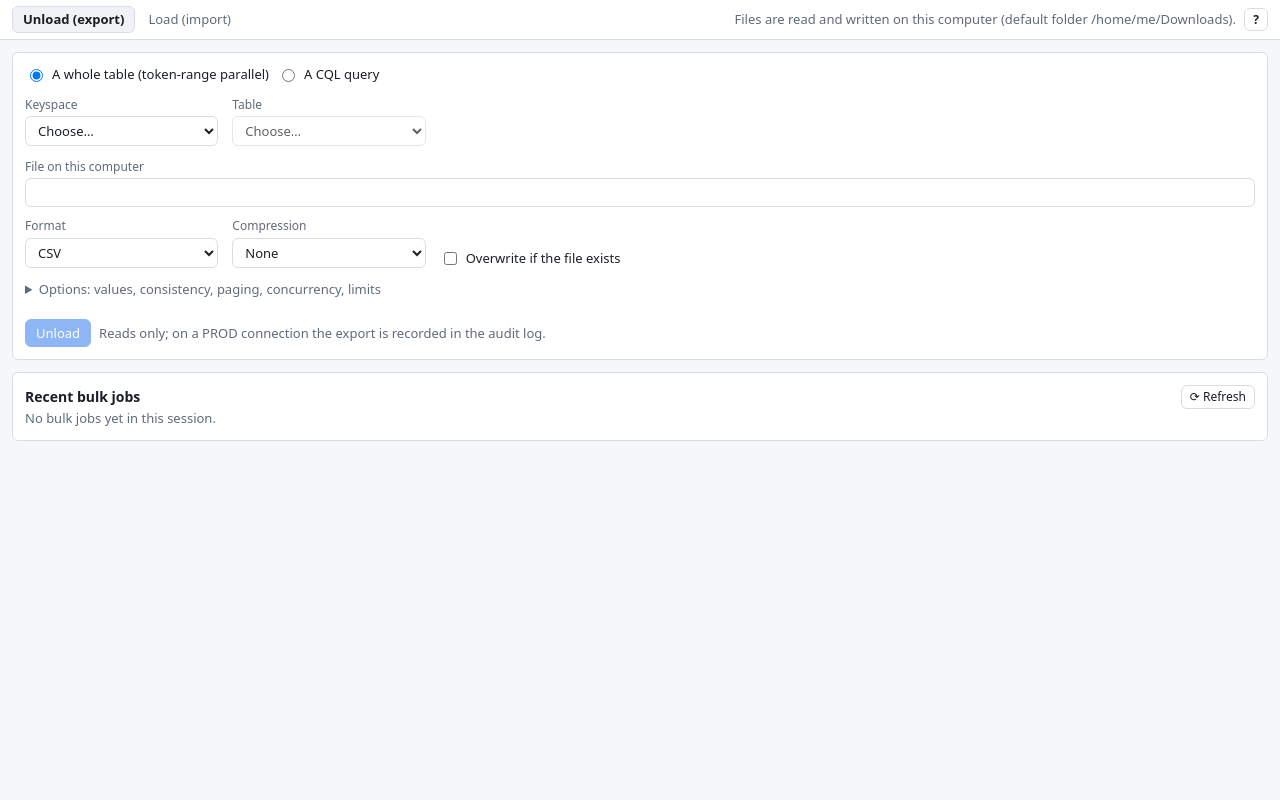
Test case: BulkPanel › unloads a table to the default Downloads path and shows the overwrite refusal
Select "shop" in the dropdown with test id "bulk-unload-keyspace". click: (122, 131)
box: [25,116,218,146]
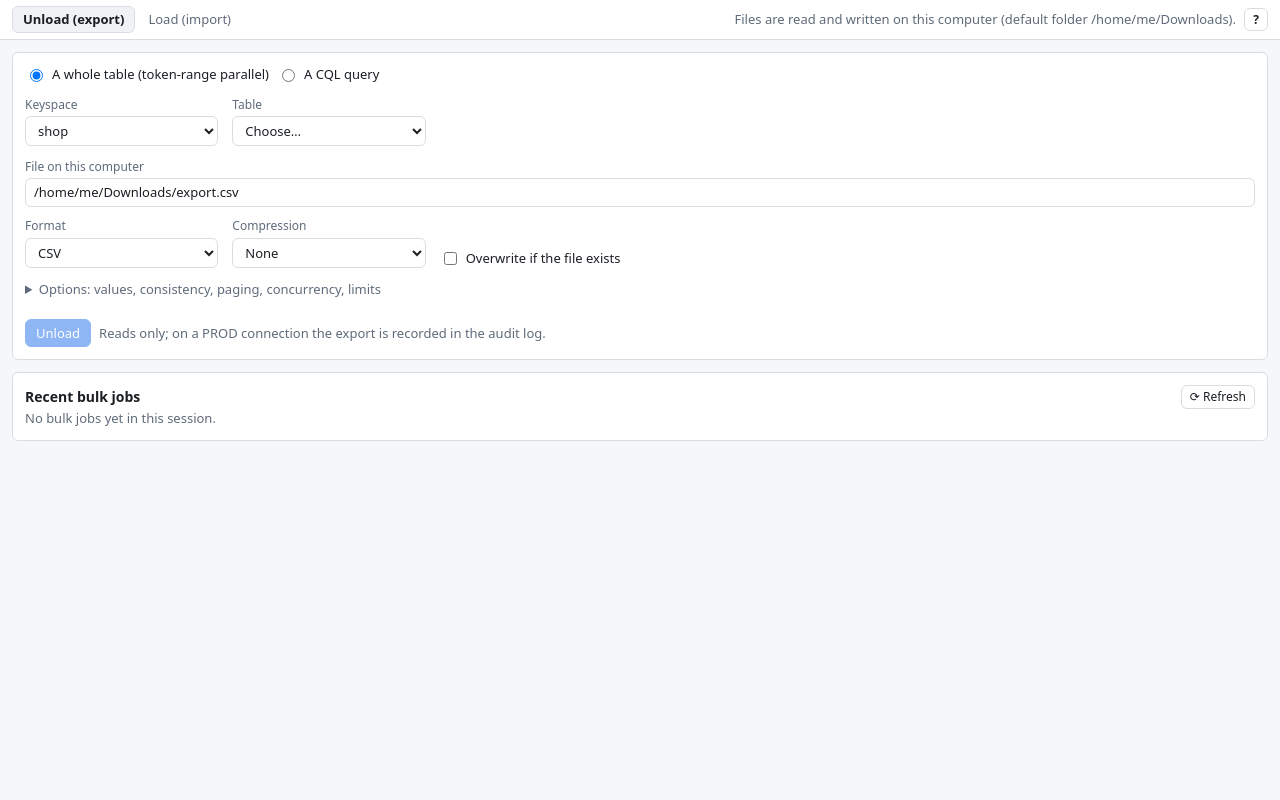
Select "orders" in the dropdown with test id "bulk-unload-table". click: (329, 131)
box: [232,116,426,146]
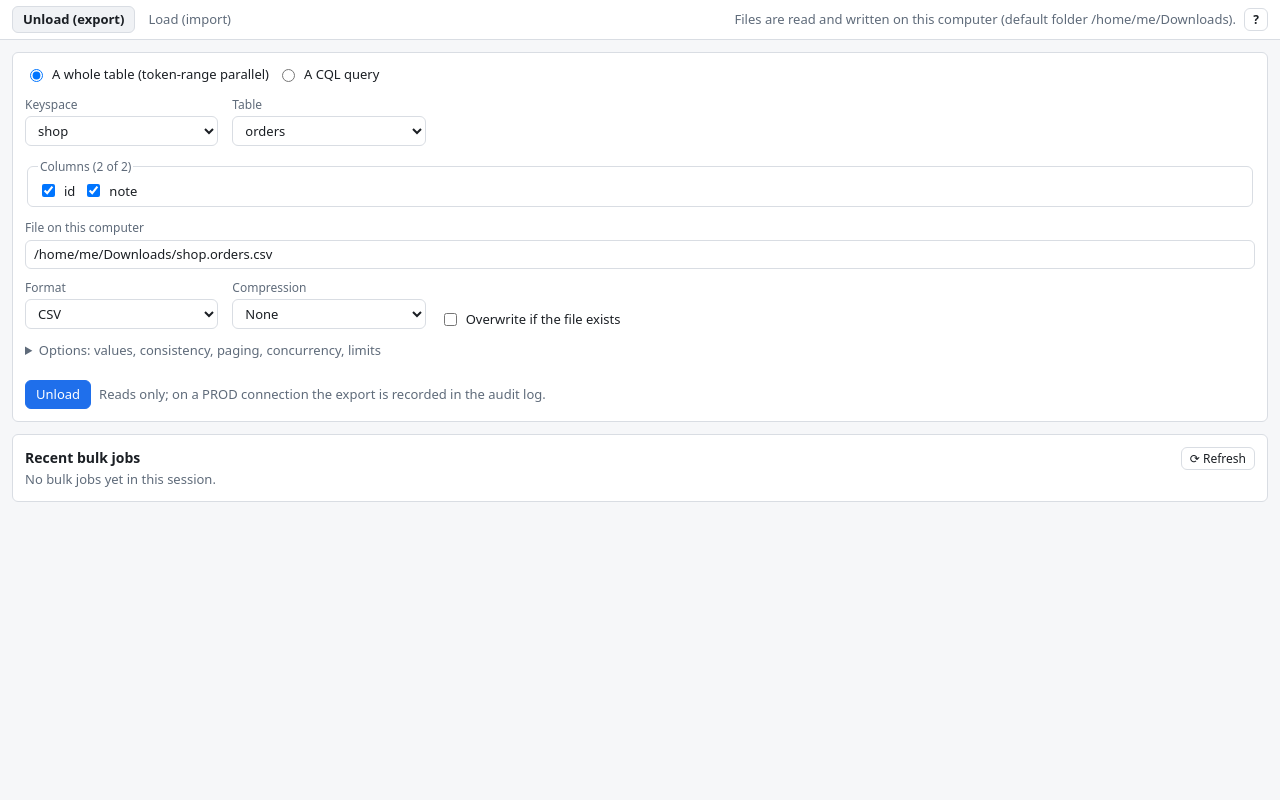
Expected: the field with test id "bulk-unload-path" holds "/home/me/Downloads/shop.orders.csv", [25,240,1255,269]
Expected: the text "Columns (2 of 2)" is shown, [38,158,134,176]
Select "JSON lines" in the dropdown with test id "bulk-unload-format". click: (122, 314)
box: [25,299,218,329]
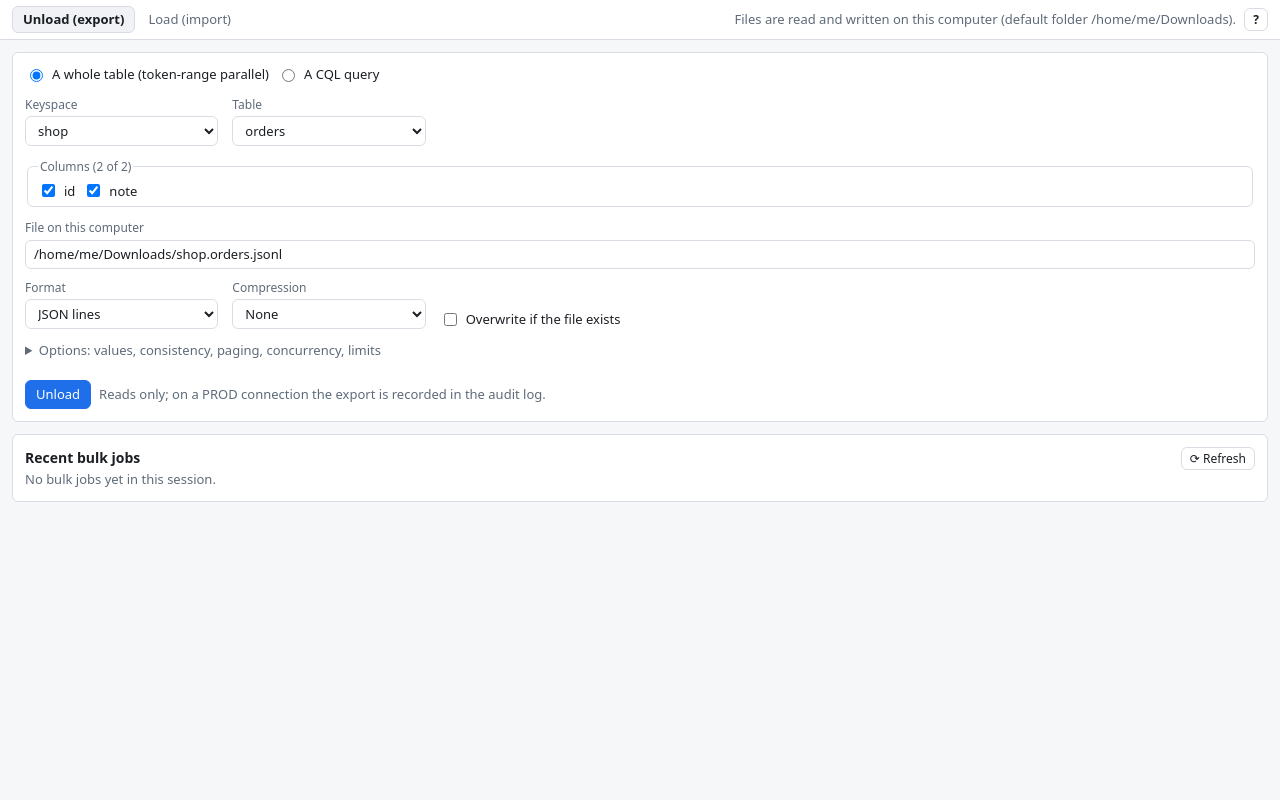
Expected: the field with test id "bulk-unload-path" holds "/home/me/Downloads/shop.orders.jsonl", [25,240,1255,269]
Select "CSV" in the dropdown with test id "bulk-unload-format". click: (122, 314)
box: [25,299,218,329]
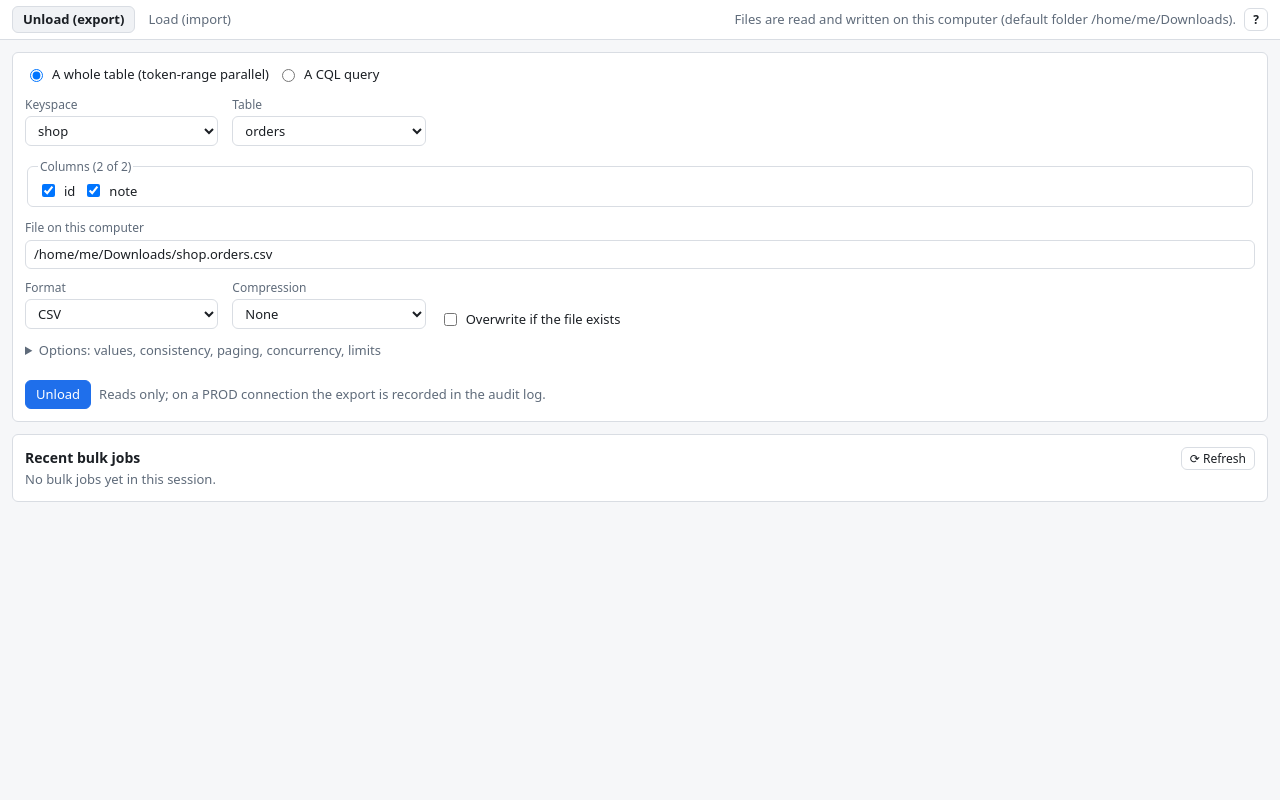
Click the button with test id "bulk-unload-start". click: (58, 394)
box: [25,380,91,409]
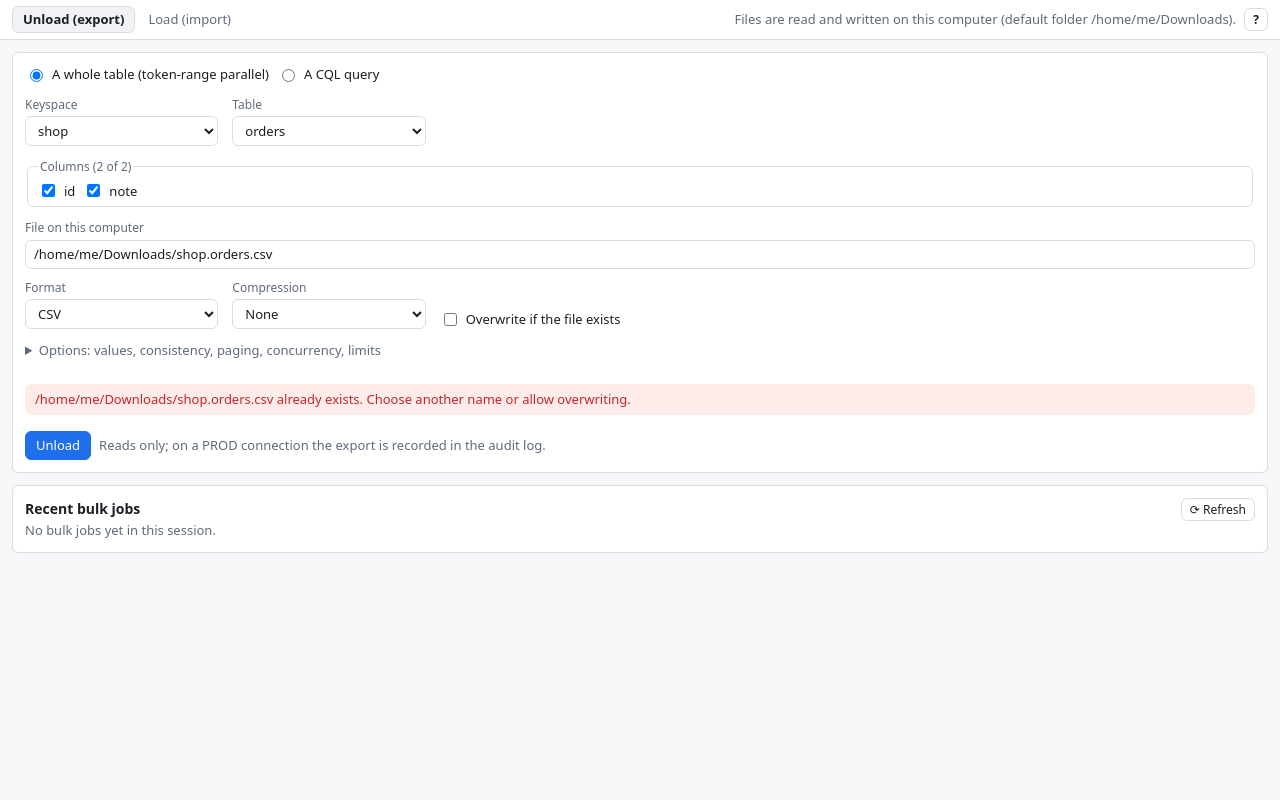
Expected: the message with test id "bulk-unload-error" shows "already exists", [35,390,631,408]
